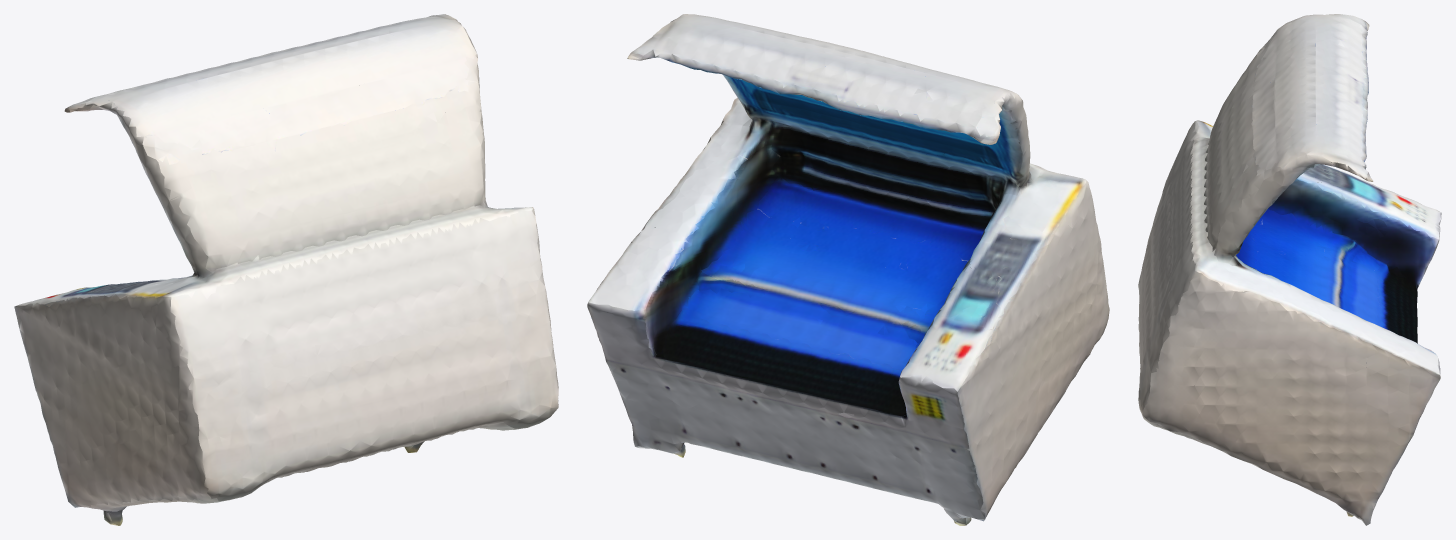
File: laser_cutter.glb
The picture shows the model from 3 angles, left to right: view 1: azimuth 30°, elevation 25°; view 2: azimuth 150°, elevation 25°; view 3: azimuth 270°, elevation 25°; orthographic projection. The views are drawn at different scales.
Parts seen in each view (by area): view 1: world; view 2: world; view 3: world.
Boxes of the visible parts, x1,y1,x2,y2 form: world: (14, 14, 558, 525); world: (587, 14, 1109, 525); world: (1138, 14, 1441, 525).
Size of the model in its own units: 0.7995 by 0.8737 by 0.6353.
Materials: 1 (1 with a texture image).
